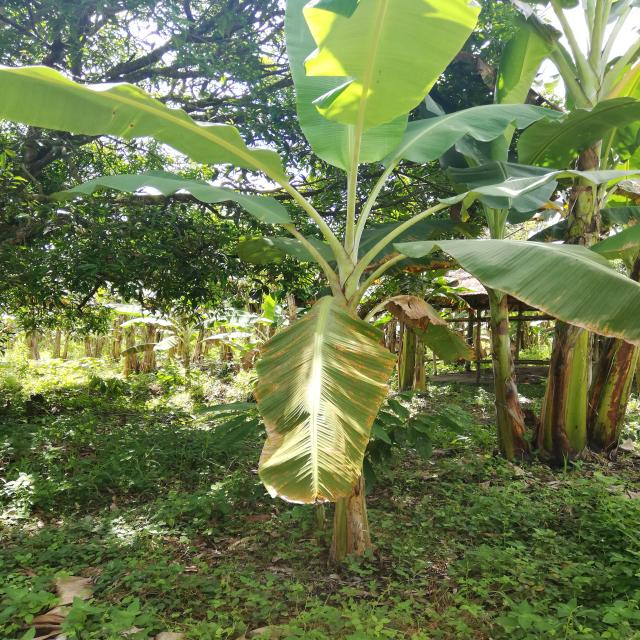Banana-plant: (538, 69, 608, 469), (311, 259, 389, 580), (472, 127, 520, 470)
